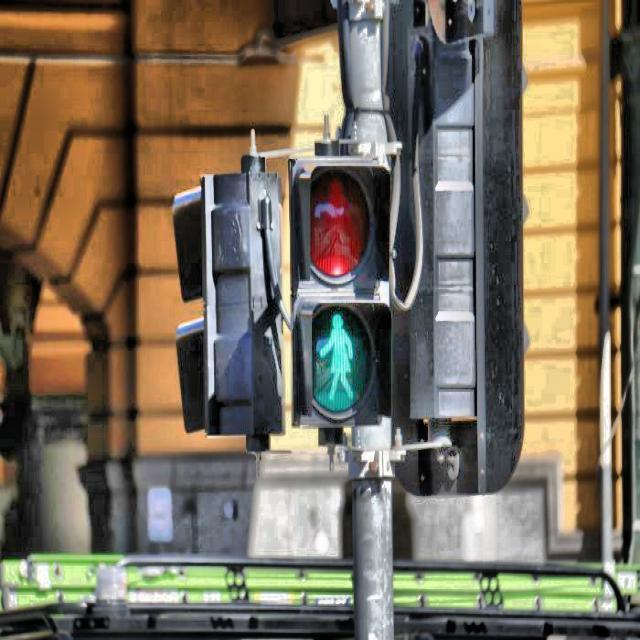green_light: (316, 308, 356, 403)
